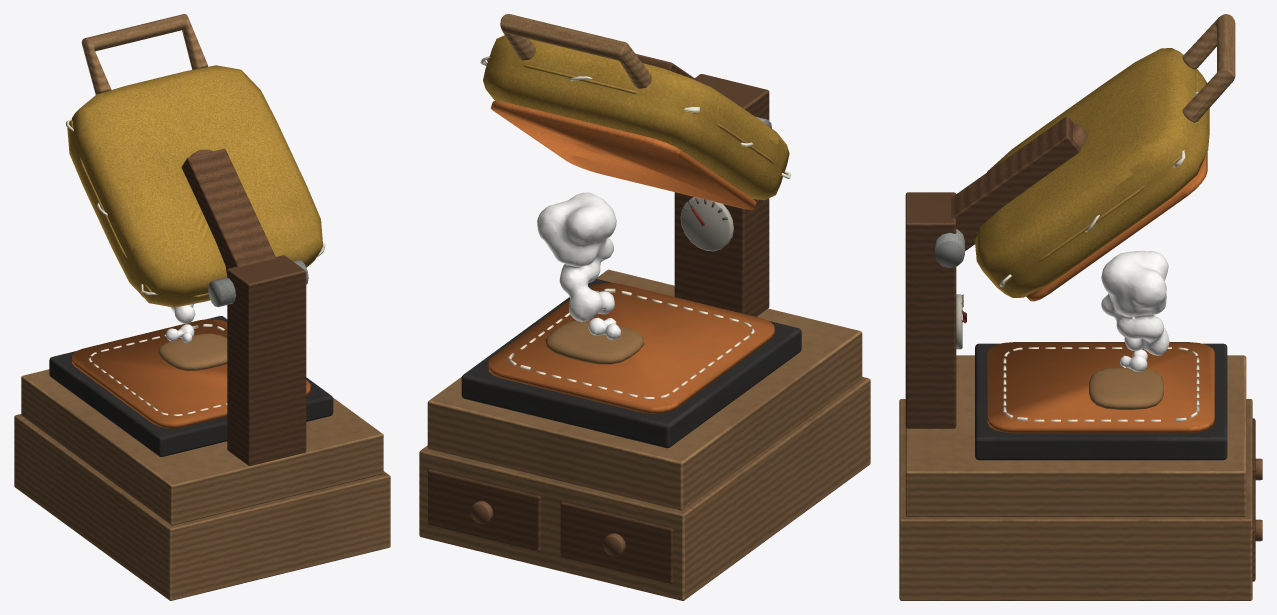
Rendered from giant_heat_press_mustard.glb.
The picture shows the model from 3 angles, left to right: view 1: azimuth 30°, elevation 25°; view 2: azimuth 150°, elevation 25°; view 3: azimuth 270°, elevation 25°; orthographic projection. The views are drawn at different scales.
Parts seen in each view (by area): view 1: giant_heat_press_mustard_wood, giant_heat_press_mustard_felt_mustard, giant_heat_press_mustard_wood_dark, giant_heat_press_mustard_felt_heat, giant_heat_press_mustard_felt_charcoal, giant_heat_press_mustard_felt_tan, giant_heat_press_mustard_felt_tin, giant_heat_press_mustard_steam5, giant_heat_press_mustard_thread; view 2: giant_heat_press_mustard_wood, giant_heat_press_mustard_felt_heat, giant_heat_press_mustard_wood_dark, giant_heat_press_mustard_felt_mustard, giant_heat_press_mustard_felt_charcoal, giant_heat_press_mustard_steam5, giant_heat_press_mustard_felt_tan, giant_heat_press_mustard_felt_ivory, giant_heat_press_mustard_thread, giant_heat_press_mustard_button; view 3: giant_heat_press_mustard_wood, giant_heat_press_mustard_felt_mustard, giant_heat_press_mustard_felt_heat, giant_heat_press_mustard_wood_dark, giant_heat_press_mustard_felt_charcoal, giant_heat_press_mustard_steam5, giant_heat_press_mustard_felt_tan, giant_heat_press_mustard_thread, giant_heat_press_mustard_felt_tin, giant_heat_press_mustard_button.
Part boxes in pixels (x1,y1,x2,y2): giant_heat_press_mustard_wood: (14, 14, 390, 600); giant_heat_press_mustard_felt_mustard: (67, 65, 322, 307); giant_heat_press_mustard_wood_dark: (181, 148, 306, 465); giant_heat_press_mustard_felt_heat: (72, 295, 310, 428); giant_heat_press_mustard_felt_charcoal: (49, 316, 333, 456); giant_heat_press_mustard_felt_tan: (158, 333, 227, 370); giant_heat_press_mustard_felt_tin: (208, 260, 308, 306); giant_heat_press_mustard_steam5: (166, 301, 207, 342); giant_heat_press_mustard_thread: (66, 118, 325, 415); giant_heat_press_mustard_wood: (419, 14, 870, 600); giant_heat_press_mustard_felt_heat: (488, 101, 774, 413); giant_heat_press_mustard_wood_dark: (428, 53, 769, 583); giant_heat_press_mustard_felt_mustard: (483, 35, 789, 200); giant_heat_press_mustard_felt_charcoal: (461, 279, 801, 448); giant_heat_press_mustard_steam5: (537, 192, 620, 339); giant_heat_press_mustard_felt_tan: (545, 320, 644, 364); giant_heat_press_mustard_felt_ivory: (680, 197, 733, 251); giant_heat_press_mustard_thread: (480, 56, 790, 398); giant_heat_press_mustard_button: (470, 501, 625, 556); giant_heat_press_mustard_wood: (899, 14, 1252, 600); giant_heat_press_mustard_felt_mustard: (975, 48, 1209, 297); giant_heat_press_mustard_felt_heat: (987, 152, 1214, 433); giant_heat_press_mustard_wood_dark: (905, 116, 1255, 581); giant_heat_press_mustard_felt_charcoal: (975, 343, 1227, 460); giant_heat_press_mustard_steam5: (1101, 250, 1169, 371); giant_heat_press_mustard_felt_tan: (1089, 367, 1163, 409); giant_heat_press_mustard_thread: (999, 92, 1199, 421); giant_heat_press_mustard_felt_tin: (934, 229, 964, 267); giant_heat_press_mustard_button: (1073, 124, 1262, 541).
Size of the model in its own units: 1.6 by 3.06 by 2.01.
Materials: 13 (10 with a texture image).
